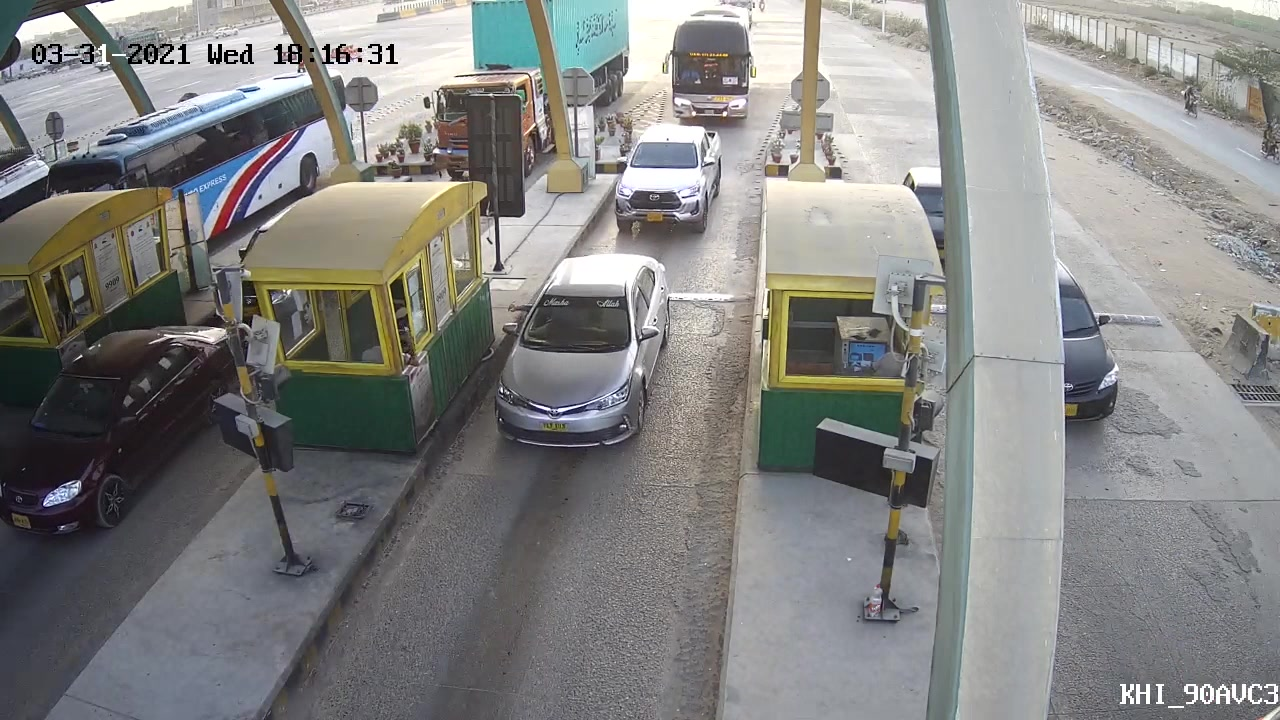F1: (489, 250, 673, 450), (608, 121, 726, 241)
